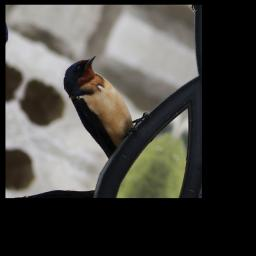Swallow: (40, 45, 164, 171)
